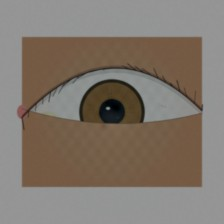pinguecula_lesion: (30, 104, 65, 132)
